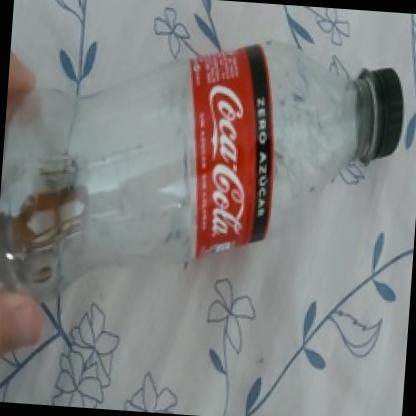plastic_bottles: (0, 16, 412, 307)
